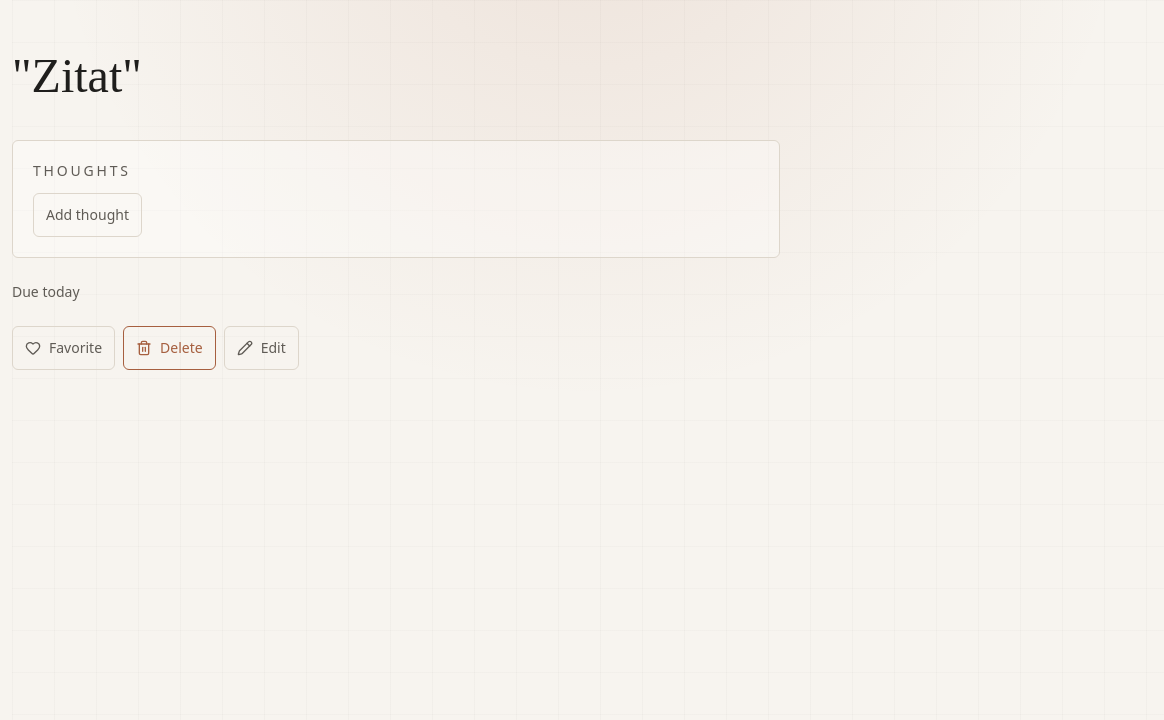
QuoteDetailPage › edit form › stays hidden until Edit is pressed
Expected: the field labelled "Text" is not shown
Click the button "Edit" at (261,348), box x1=224 y1=326 x2=299 y2=370
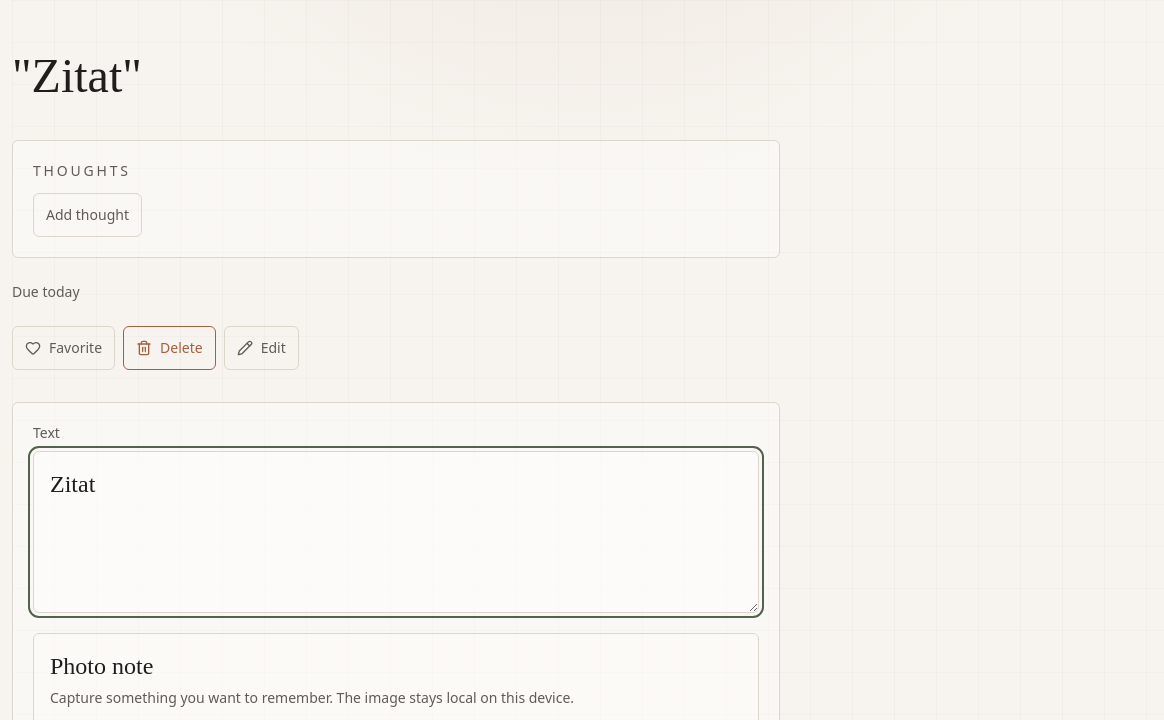
Expected: the text box labelled "Text" holds "Zitat", x1=33 y1=451 x2=759 y2=613
